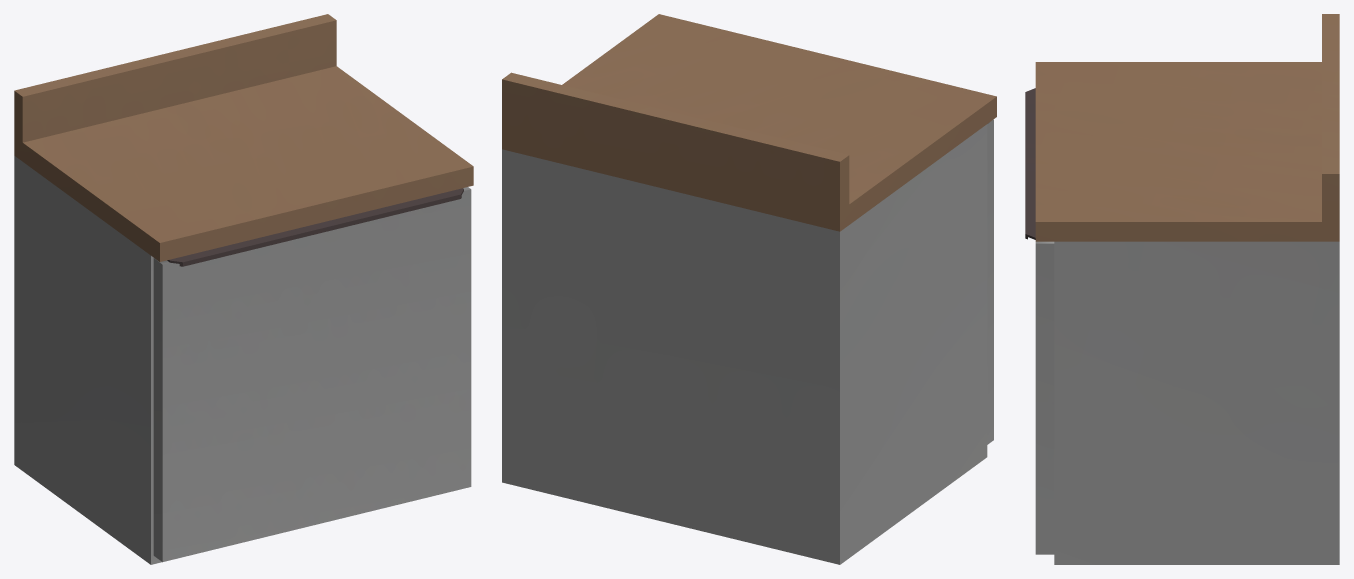
File: KitchenBlock_F.fbx
3 renders of one model, left to right at view 1: azimuth 30°, elevation 25°; view 2: azimuth 150°, elevation 25°; view 3: azimuth 270°, elevation 25°, orthographic. The views are drawn at different scales.
Parts seen in each view (by area): view 1: Kit_1_Block_F; view 2: Kit_1_Block_F; view 3: Kit_1_Block_F.
Part boxes in pixels (x1=…): Kit_1_Block_F: x1=14, y1=14, x2=473, y2=564; Kit_1_Block_F: x1=502, y1=14, x2=996, y2=564; Kit_1_Block_F: x1=1025, y1=14, x2=1339, y2=564.
Bounding box in the file's own units: 82.46 × 93.97 × 68.51.
